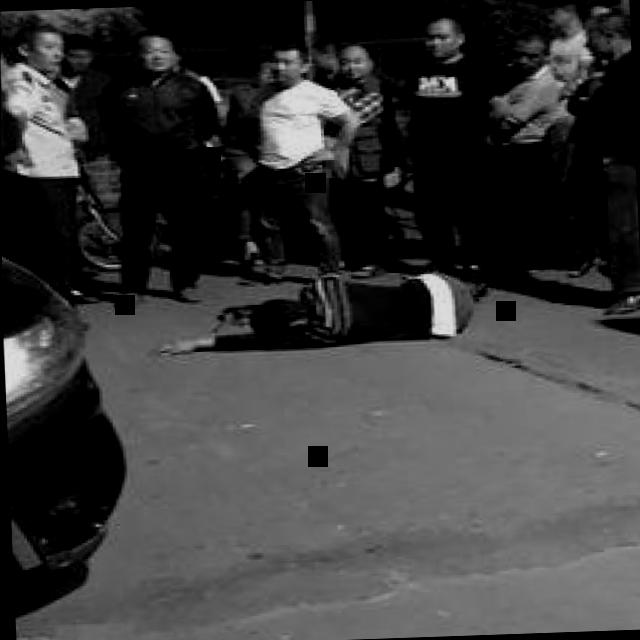Fall-Detected: (147, 254, 495, 358)
